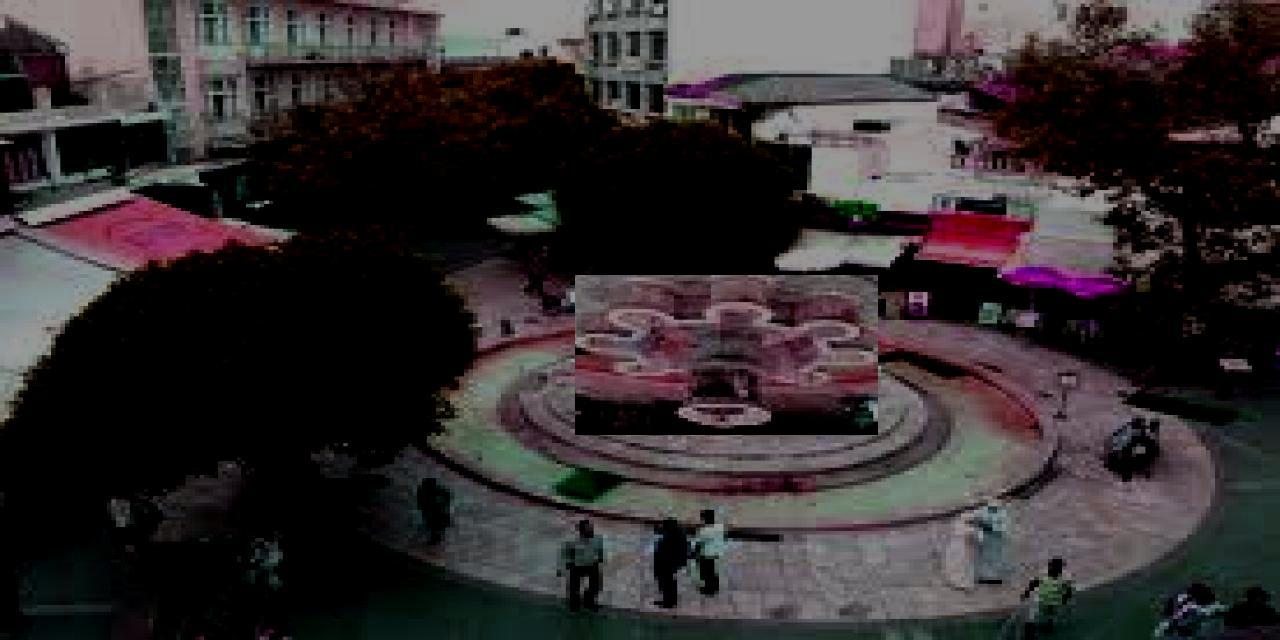Liontaria: (576, 276, 879, 436)
